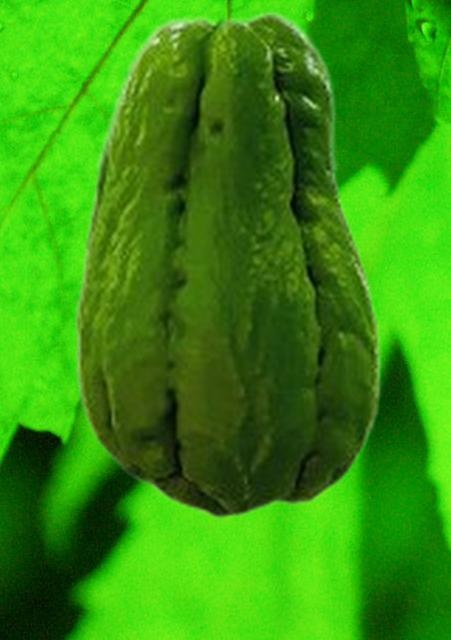sayote: (75, 9, 381, 519)
